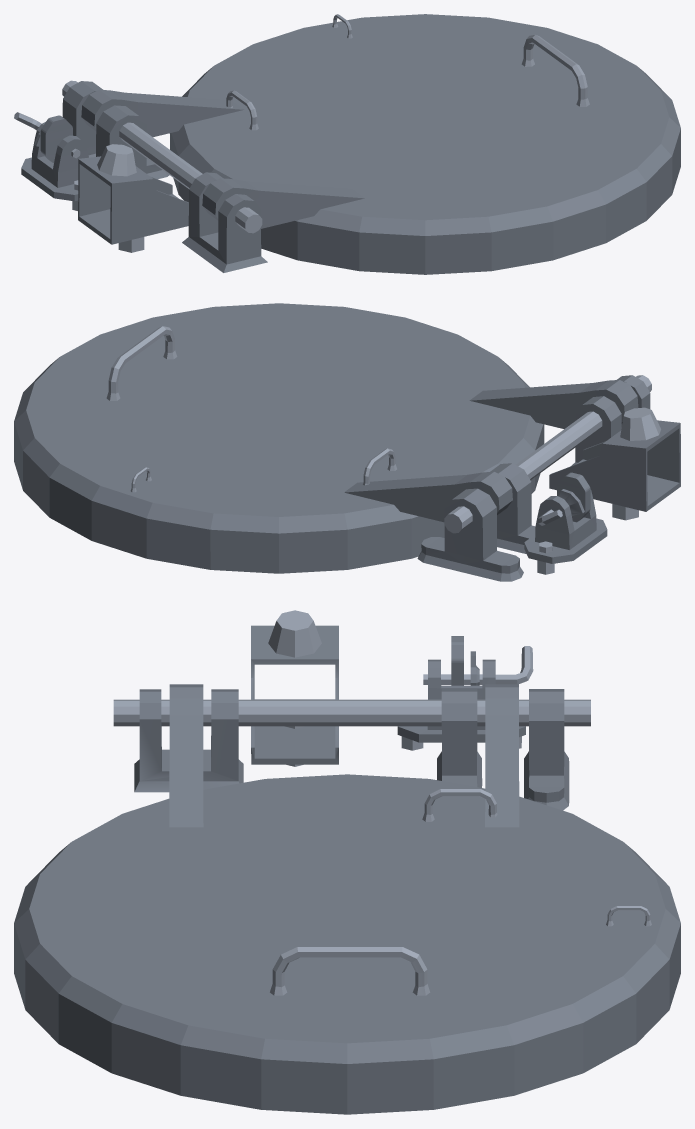
The model's file is board_002_type87-arv.fbx.
3 views of the same model, one above another, from view 1: azimuth 30°, elevation 25°; view 2: azimuth 150°, elevation 25°; view 3: azimuth 270°, elevation 25° (orthographic). The views are drawn at different scales.
Parts seen in each view (by area): view 1: board.002.type87-arv; view 2: board.002.type87-arv; view 3: board.002.type87-arv.
Boxes of the visible parts, x1,y1,x2,y2 form: board.002.type87-arv: (14, 14, 680, 274); board.002.type87-arv: (14, 303, 680, 581); board.002.type87-arv: (14, 610, 680, 1114).
Bounding box in the file's own units: 1.21 × 0.2299 × 0.9368.
